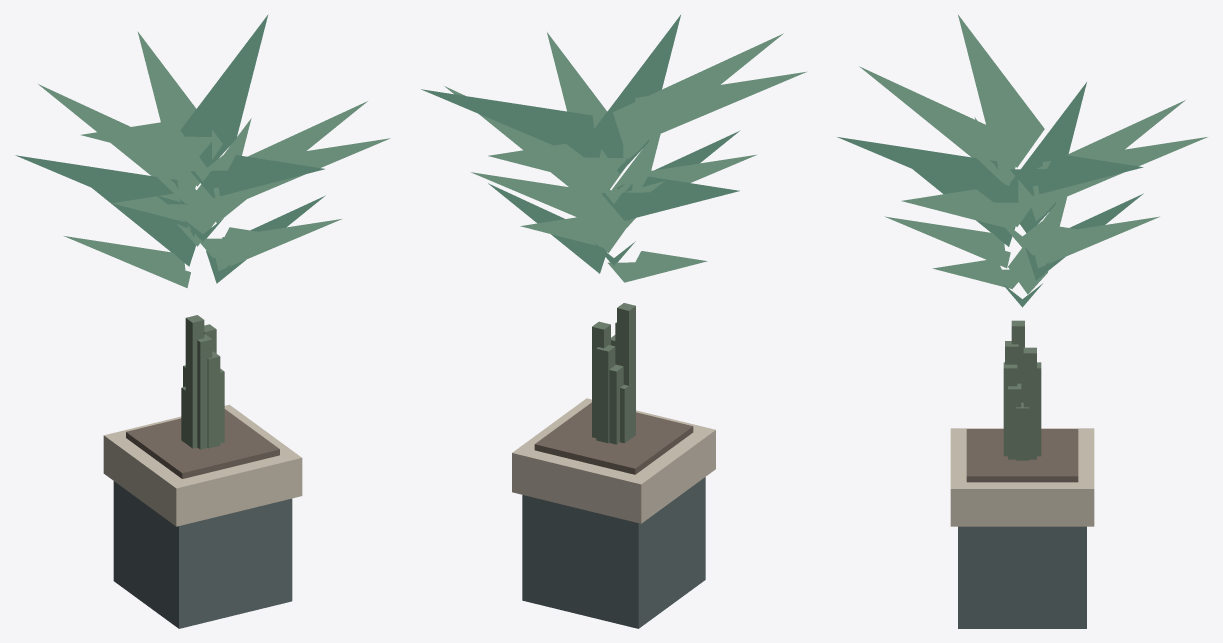
3 views of the same model, side by side, from view 1: azimuth 30°, elevation 25°; view 2: azimuth 150°, elevation 25°; view 3: azimuth 270°, elevation 25° (orthographic). The views are drawn at different scales.
Visible parts, largest first — view 1: RG-GAME-02-INDOOR-GREENERY-V16__STANDALONE_PL05__ASSET_1F_le (×2), RG-GAME-02-INDOOR-GREENERY-V16__STANDALONE_PL05__ASSET_1F_bl, RG-GAME-02-INDOOR-GREENERY-V16__STANDALONE_PL05__ASSET_1F_ri, RG-GAME-02-INDOOR-GREENERY-V16__STANDALONE_PL05__ASSET_1F_st, RG-GAME-02-INDOOR-GREENERY-V16__STANDALONE_PL05__ASSET_1F_so; view 2: RG-GAME-02-INDOOR-GREENERY-V16__STANDALONE_PL05__ASSET_1F_le (×2), RG-GAME-02-INDOOR-GREENERY-V16__STANDALONE_PL05__ASSET_1F_bl, RG-GAME-02-INDOOR-GREENERY-V16__STANDALONE_PL05__ASSET_1F_ri, RG-GAME-02-INDOOR-GREENERY-V16__STANDALONE_PL05__ASSET_1F_st, RG-GAME-02-INDOOR-GREENERY-V16__STANDALONE_PL05__ASSET_1F_so; view 3: RG-GAME-02-INDOOR-GREENERY-V16__STANDALONE_PL05__ASSET_1F_le (×2), RG-GAME-02-INDOOR-GREENERY-V16__STANDALONE_PL05__ASSET_1F_bl, RG-GAME-02-INDOOR-GREENERY-V16__STANDALONE_PL05__ASSET_1F_ri, RG-GAME-02-INDOOR-GREENERY-V16__STANDALONE_PL05__ASSET_1F_so, RG-GAME-02-INDOOR-GREENERY-V16__STANDALONE_PL05__ASSET_1F_st.
Part boxes in pixels (x1,y1,x2,y2): RG-GAME-02-INDOOR-GREENERY-V16__STANDALONE_PL05__ASSET_1F_le (×2): (15, 14, 390, 287); RG-GAME-02-INDOOR-GREENERY-V16__STANDALONE_PL05__ASSET_1F_bl: (113, 481, 292, 628); RG-GAME-02-INDOOR-GREENERY-V16__STANDALONE_PL05__ASSET_1F_ri: (103, 404, 302, 526); RG-GAME-02-INDOOR-GREENERY-V16__STANDALONE_PL05__ASSET_1F_st: (181, 315, 224, 449); RG-GAME-02-INDOOR-GREENERY-V16__STANDALONE_PL05__ASSET_1F_so: (126, 409, 279, 478); RG-GAME-02-INDOOR-GREENERY-V16__STANDALONE_PL05__ASSET_1F_le (×2): (421, 15, 806, 282); RG-GAME-02-INDOOR-GREENERY-V16__STANDALONE_PL05__ASSET_1F_bl: (522, 477, 705, 628); RG-GAME-02-INDOOR-GREENERY-V16__STANDALONE_PL05__ASSET_1F_ri: (512, 398, 715, 523); RG-GAME-02-INDOOR-GREENERY-V16__STANDALONE_PL05__ASSET_1F_st: (592, 303, 635, 444); RG-GAME-02-INDOOR-GREENERY-V16__STANDALONE_PL05__ASSET_1F_so: (534, 402, 693, 474); RG-GAME-02-INDOOR-GREENERY-V16__STANDALONE_PL05__ASSET_1F_le (×2): (837, 15, 1207, 307); RG-GAME-02-INDOOR-GREENERY-V16__STANDALONE_PL05__ASSET_1F_bl: (958, 526, 1086, 628); RG-GAME-02-INDOOR-GREENERY-V16__STANDALONE_PL05__ASSET_1F_ri: (950, 428, 1094, 526); RG-GAME-02-INDOOR-GREENERY-V16__STANDALONE_PL05__ASSET_1F_so: (966, 429, 1078, 482); RG-GAME-02-INDOOR-GREENERY-V16__STANDALONE_PL05__ASSET_1F_st: (1003, 320, 1041, 460).
Size of the model in its own units: 0.7036 by 1.08 by 0.7145.
